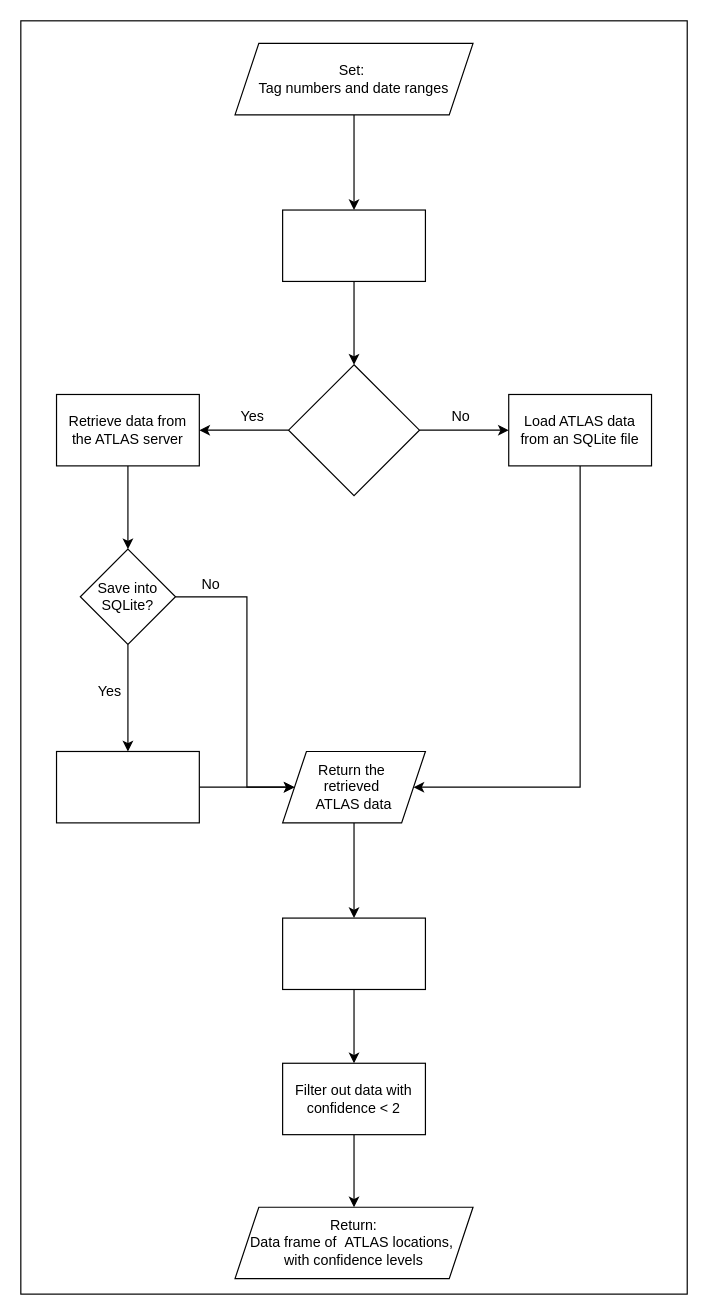
This 708x1315 diagram has some shape labels left out. The shapes that lost their labels are listed below. From the top down, each one's centre as x and y in pixels, then its label:
the point at 353,245: Install required R packages
the point at 353,430: Retrieve data from server?
the point at 127,786: Save data into an SQLite file
the point at 353,953: Calculate the confidence level of each ATLAS location
